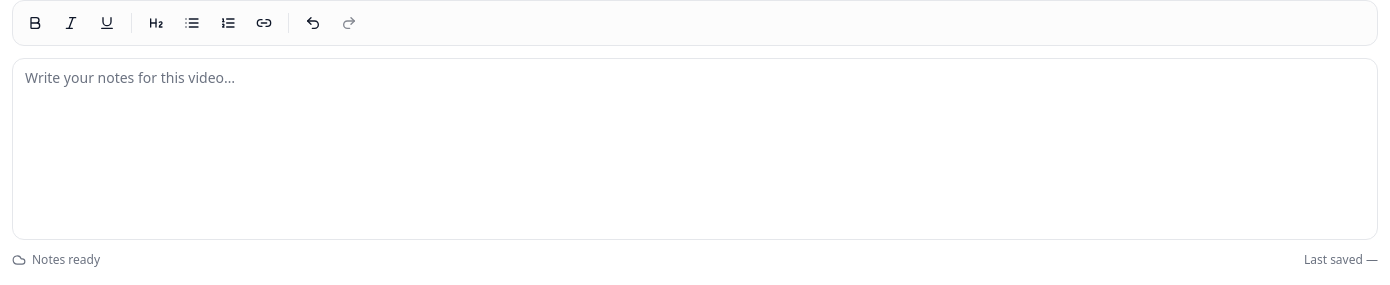
Scenario: notes editor › surfaces a save failure and keeps the content dirty for a retry
Expected: the text "Notes ready" is shown, [12, 252, 100, 268]
Click the text box named "Video notes editor" at (695,149), box [13, 59, 1377, 239]
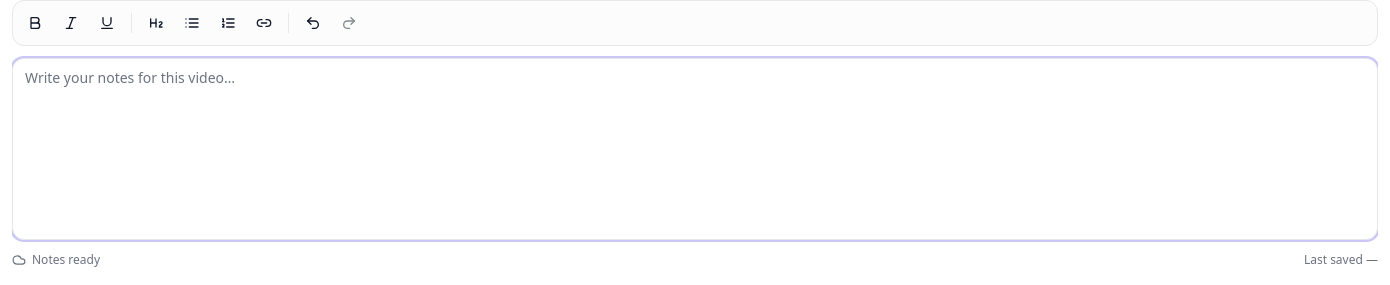
Type keys "Retry me"
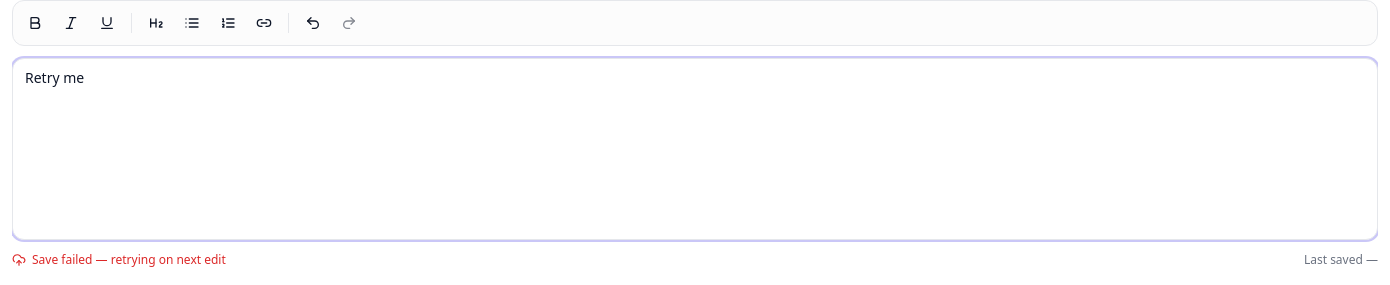
Now the text "Save failed — retrying on next edit" is shown, box [12, 252, 226, 268]
